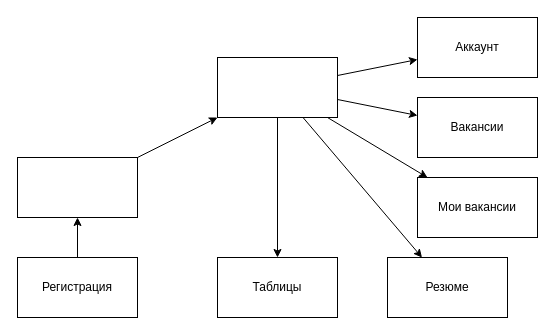
Some shapes in this 555 by 335 pixel diagram are drawn without their labels. Here are the shapes that lost their labels. From the top down, the centre of each, then its label:
At [277,87]: "Главная".
At [77,187]: "Логин".
